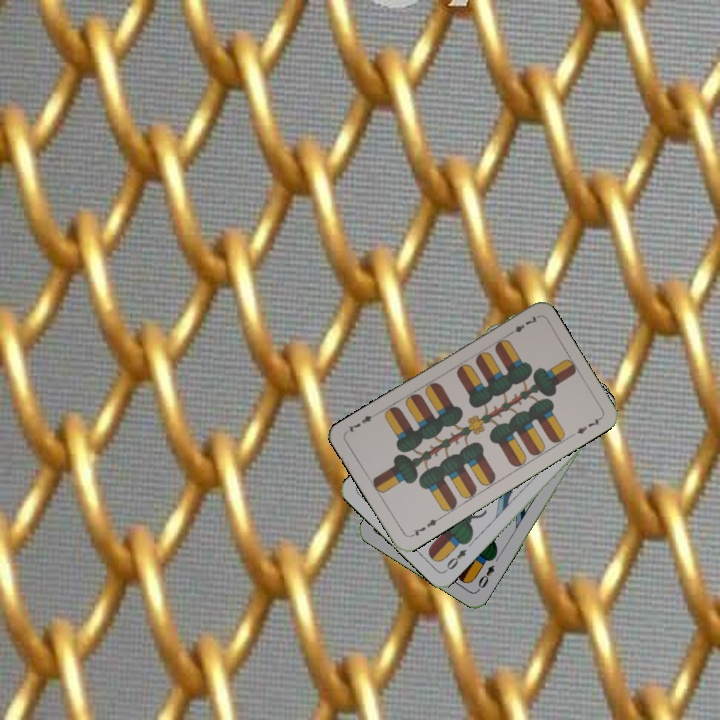E7: (406, 513, 443, 540), (504, 312, 540, 339)
EO: (440, 545, 469, 575), (473, 561, 497, 594)
